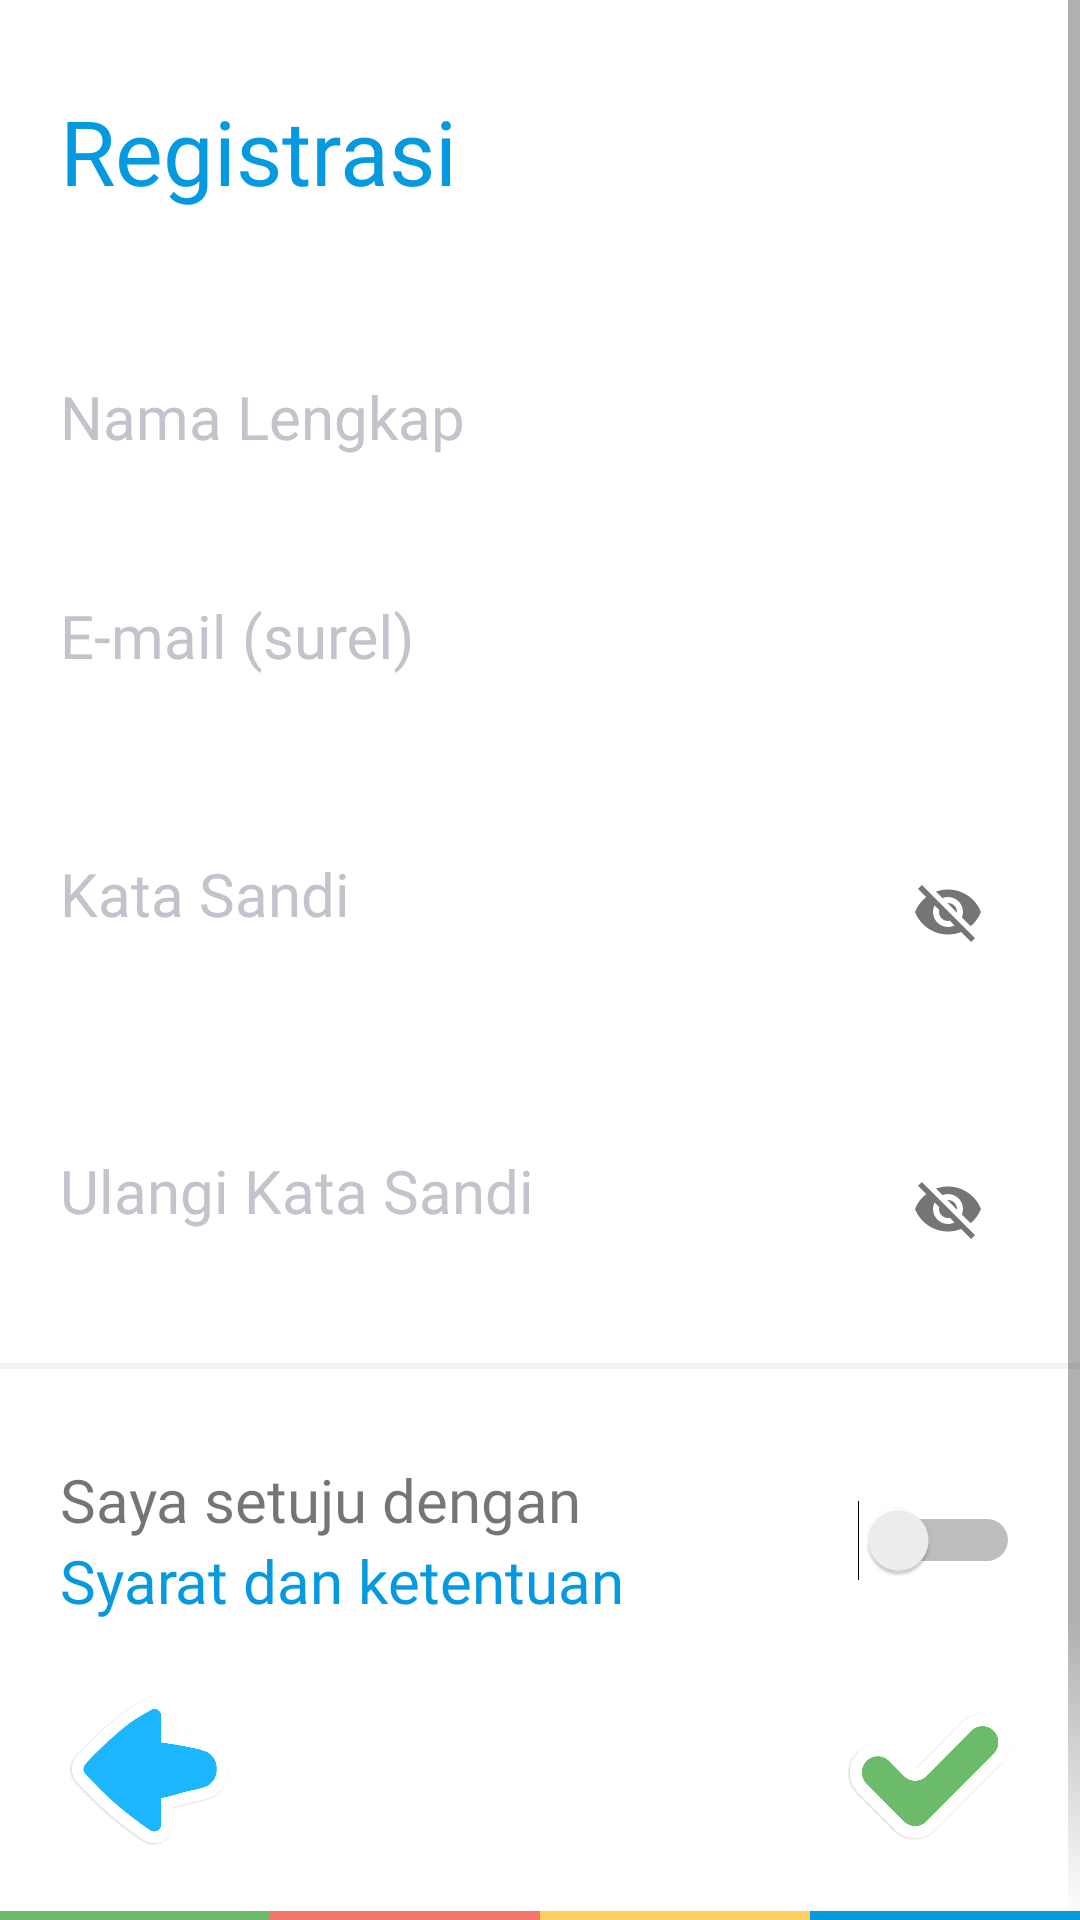

Icon bounding boxes for this 1080px x 1920px phone screenshot, format box(x1, y1, x2, y2):
back: box(71, 1709, 217, 1844)
check: box(849, 1726, 998, 1839)
